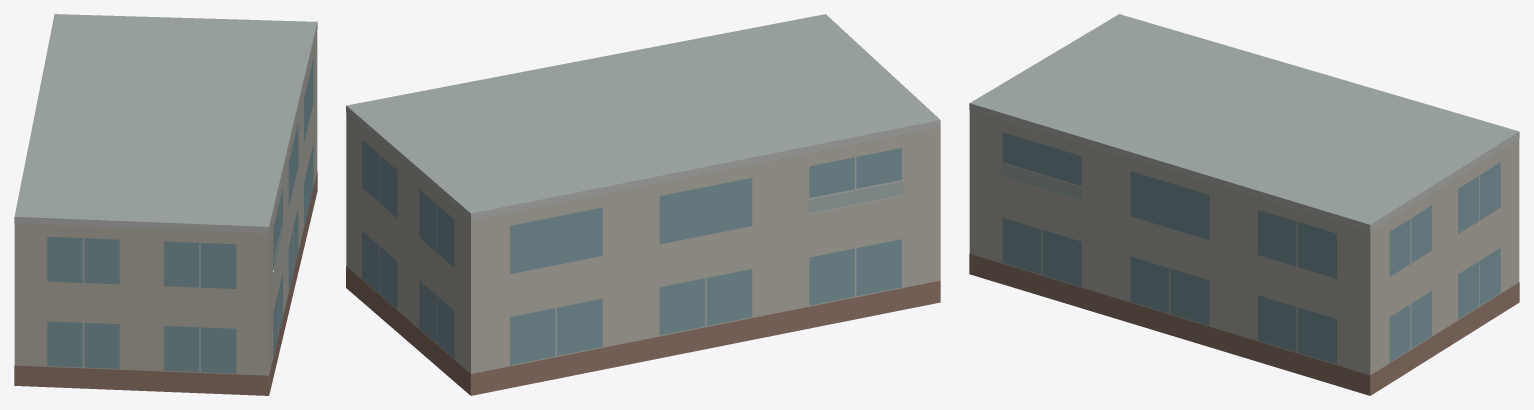
Rendered from survey-upis-32528541.glb.
3 renders of one model, left to right at view 1: azimuth 30°, elevation 25°; view 2: azimuth 150°, elevation 25°; view 3: azimuth 270°, elevation 25°, orthographic. The views are drawn at different scales.
Parts seen in each view (by area): view 1: survey-upis-32528541.tmp; view 2: survey-upis-32528541.tmp; view 3: survey-upis-32528541.tmp.
Boxes of the visible parts, x1,y1,x2,y2 form: survey-upis-32528541.tmp: (14,14,317,395); survey-upis-32528541.tmp: (346,14,940,395); survey-upis-32528541.tmp: (969,14,1519,395).
Size of the model in its own units: 16.14 by 6.1 by 17.78.
